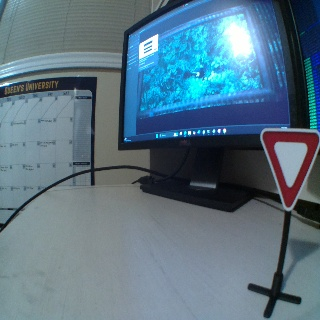sign_yield: (257, 127, 319, 208)
